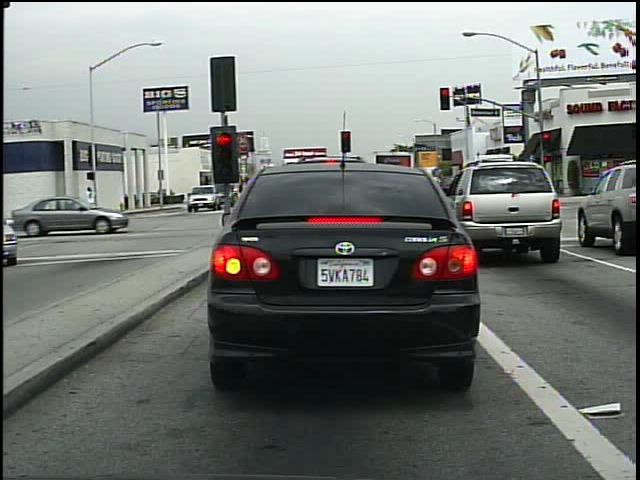person: (81, 187, 103, 220)
